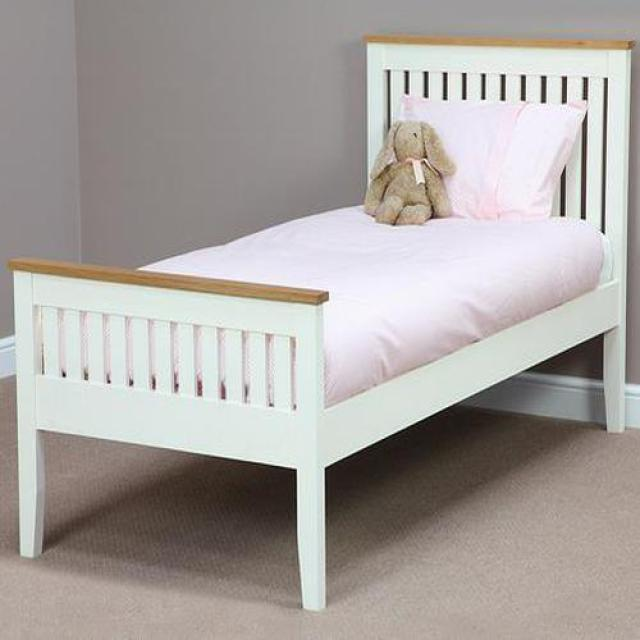bed: (9, 36, 632, 614)
